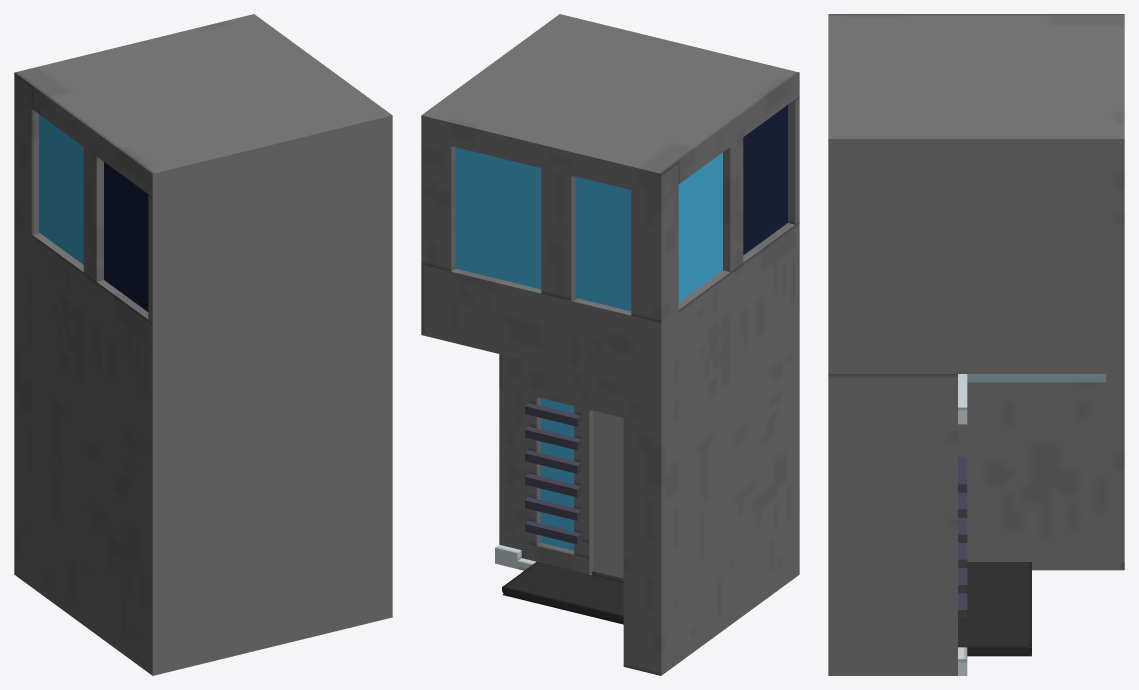
File: PARTER_PRAWO_DZW.dae
3 views of the same model, side by side, from view 1: azimuth 30°, elevation 25°; view 2: azimuth 150°, elevation 25°; view 3: azimuth 270°, elevation 25° (orthographic). The views are drawn at different scales.
Parts seen in each view (by area): view 1: Content; view 2: Content; view 3: Content.
Part boxes in pixels (bbox=[...]): Content: bbox=[14, 14, 392, 675]; Content: bbox=[421, 14, 799, 675]; Content: bbox=[828, 14, 1124, 675].
Bounding box in the file's own units: 32 × 64 × 32.
Materials: 1 (1 with a texture image).
